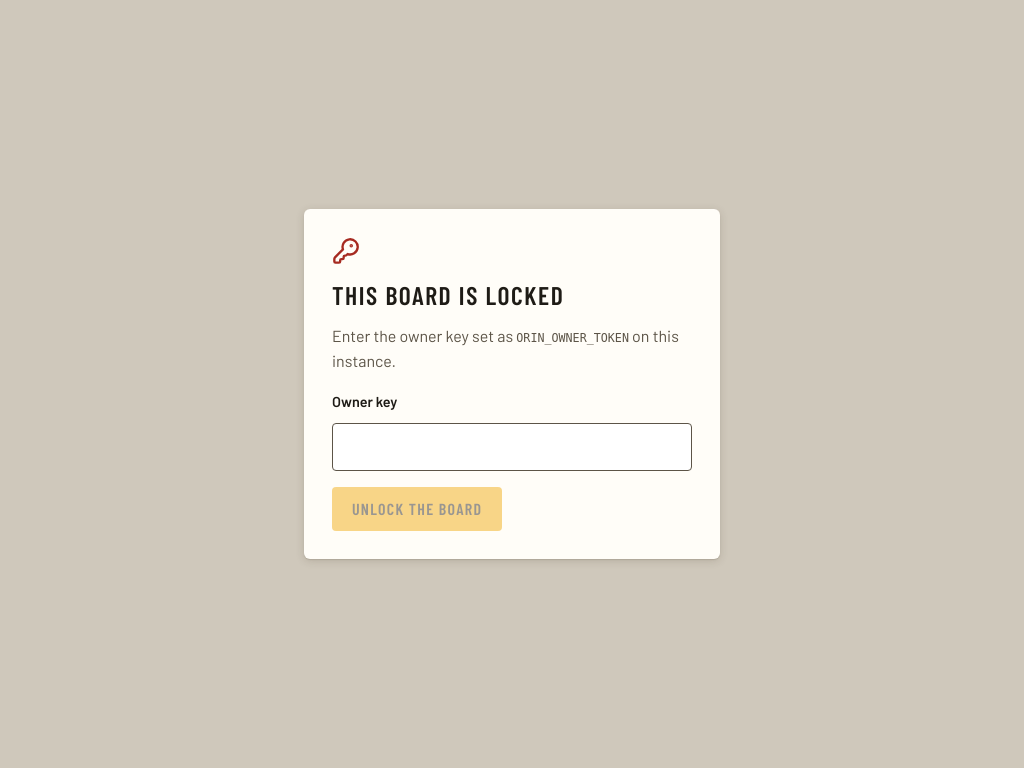
Test: owner session › swaps the key for a session without storing it
Expected: the heading "This board is locked" is shown, [332,279,564,310]
Type "synthetic-owner-key-for-tests-only" into the password field labelled "Owner key" at (512, 447), box [332,423,692,471]
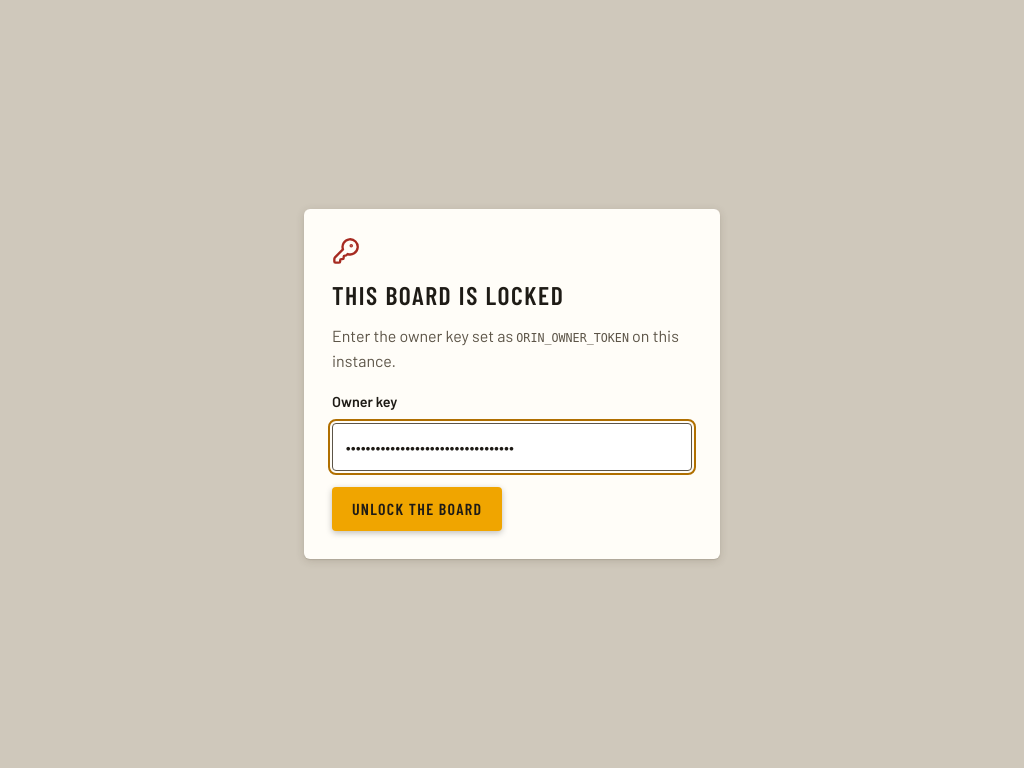
Click the button "Unlock the board" at (417, 509), box [332,487,502,531]
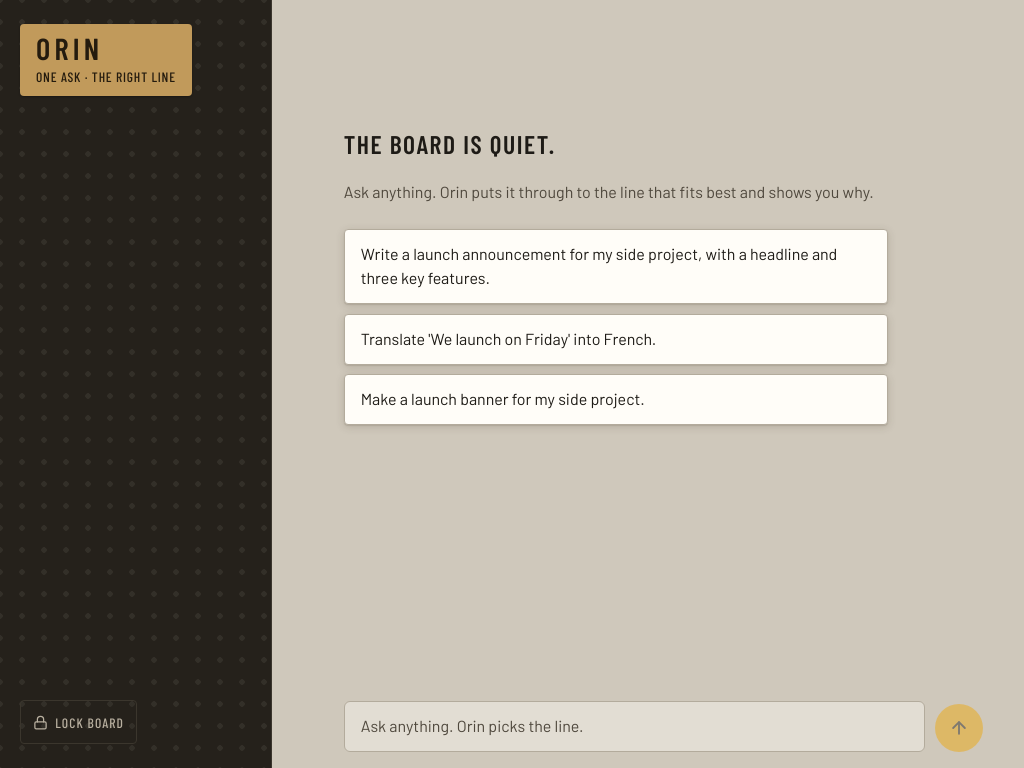
Expected: the button "Lock board" is enabled, [20,700,137,744]
